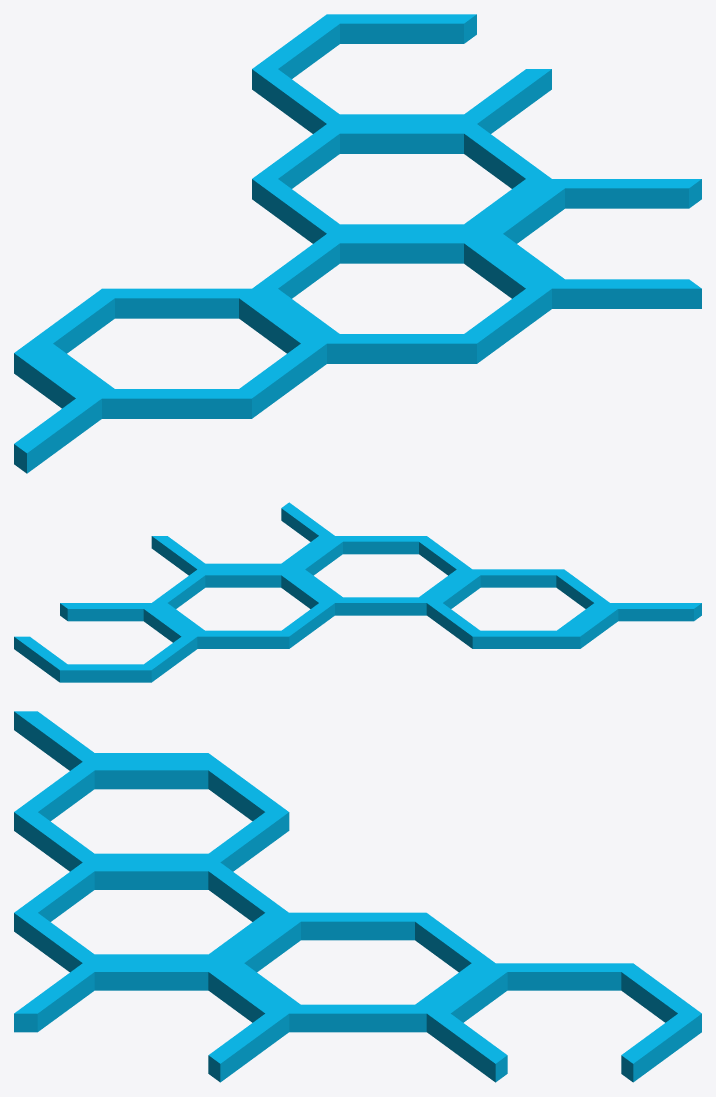
3 renders of one model, top to bottom at view 1: azimuth 30°, elevation 25°; view 2: azimuth 150°, elevation 25°; view 3: azimuth 270°, elevation 25°, orthographic. The views are drawn at different scales.
Visible parts, largest first — view 1: instance_0, instance_4, instance_3, instance_1, instance_5, instance_2, instance_5.001, instance_3.001, instance_4.001; view 2: instance_0, instance_3, instance_5, instance_4, instance_1, instance_2, instance_4.001, instance_3.001, instance_5.001; view 3: instance_0, instance_1, instance_5, instance_3, instance_4, instance_3.001, instance_5.001, instance_4.001, instance_2.
Boxes of the visible parts, <box> form: instance_0: <box>252,14,551,133</box>; instance_4: <box>252,233,551,363</box>; instance_3: <box>27,288,326,418</box>; instance_1: <box>477,179,701,308</box>; instance_5: <box>252,124,551,243</box>; instance_2: <box>14,344,101,473</box>; instance_5.001: <box>278,133,525,188</box>; instance_3.001: <box>53,298,300,353</box>; instance_4.001: <box>278,243,525,298</box>; instance_0: <box>14,603,197,682</box>; instance_3: <box>426,569,609,648</box>; instance_5: <box>152,569,334,648</box>; instance_4: <box>289,536,472,615</box>; instance_1: <box>151,502,334,575</box>; instance_2: <box>564,603,701,648</box>; instance_4.001: <box>305,541,456,575</box>; instance_3.001: <box>443,575,593,608</box>; instance_5.001: <box>168,575,318,608</box>; instance_0: <box>426,963,701,1082</box>; instance_1: <box>14,963,289,1082</box>; instance_5: <box>220,912,495,1032</box>; instance_3: <box>14,761,289,871</box>; instance_4: <box>14,862,288,972</box>; instance_3.001: <box>38,770,264,821</box>; instance_5.001: <box>244,921,471,972</box>; instance_4.001: <box>38,871,264,921</box>; instance_2: <box>14,711,219,770</box>.
Bounding box in the file's own units: 2.23 × 0.0552 × 1.84.
